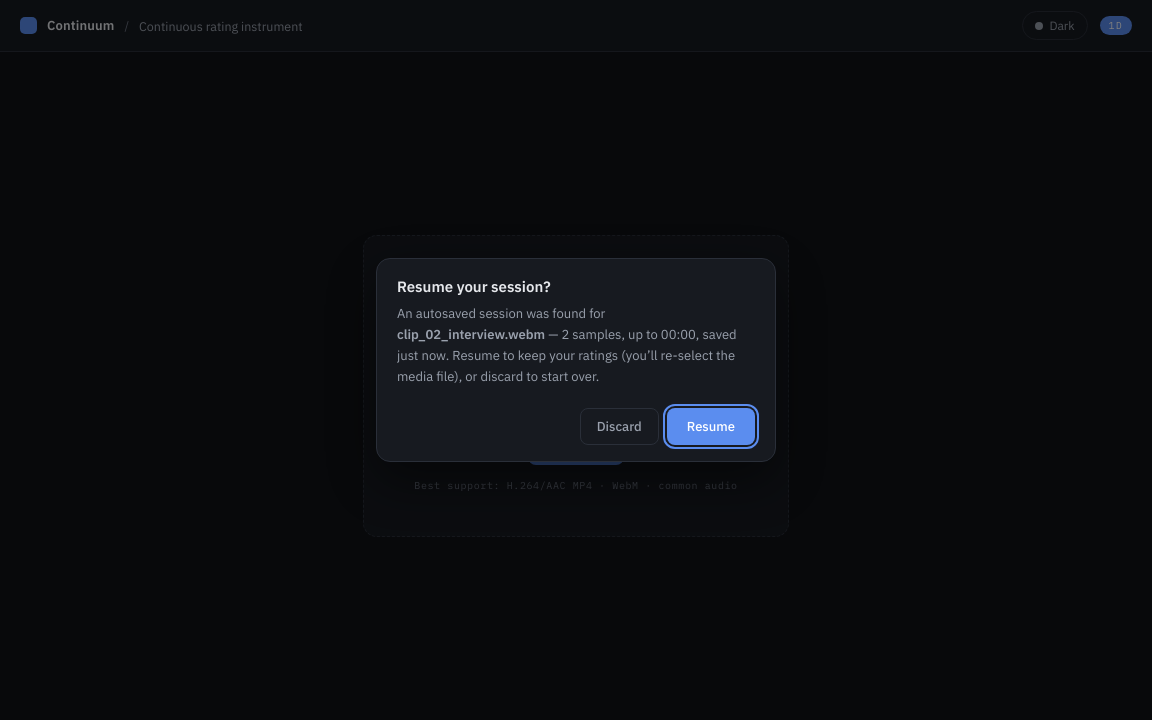
Test: <App /> shell › discards an autosaved session on request
Click the button "Discard": (619, 426) [580, 408, 659, 445]
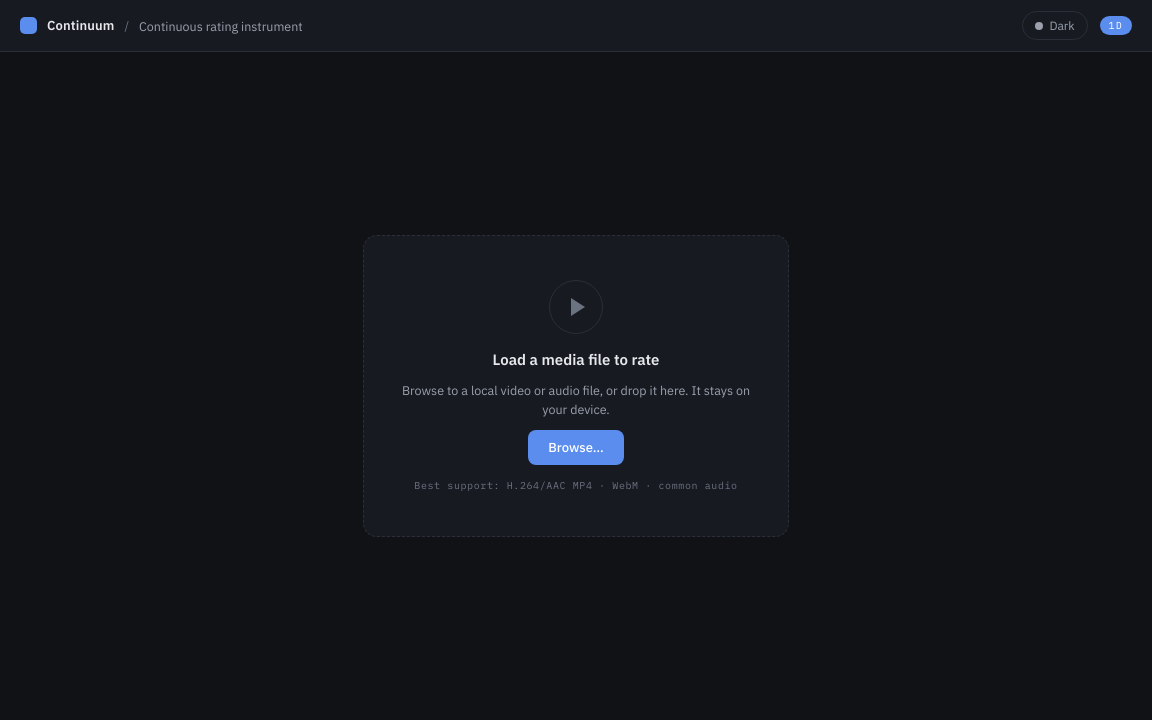
Result: the dialog is gone
